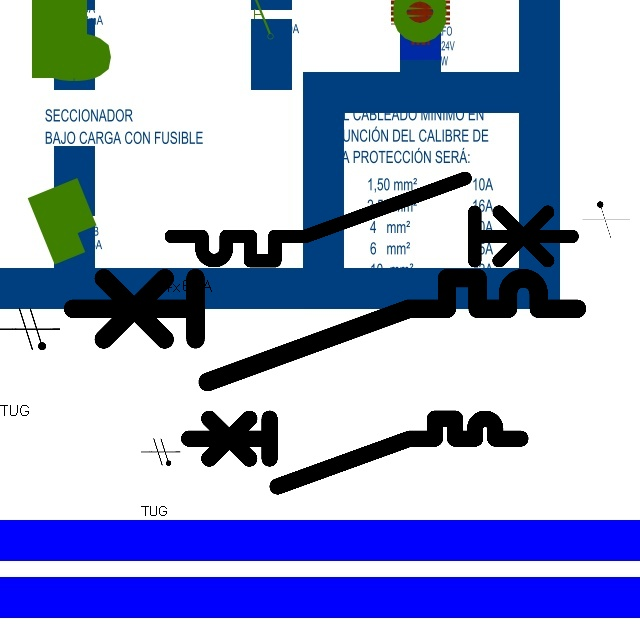interruptor_termomagnetico: (60, 265, 590, 395), (161, 168, 582, 271), (180, 410, 529, 495)
